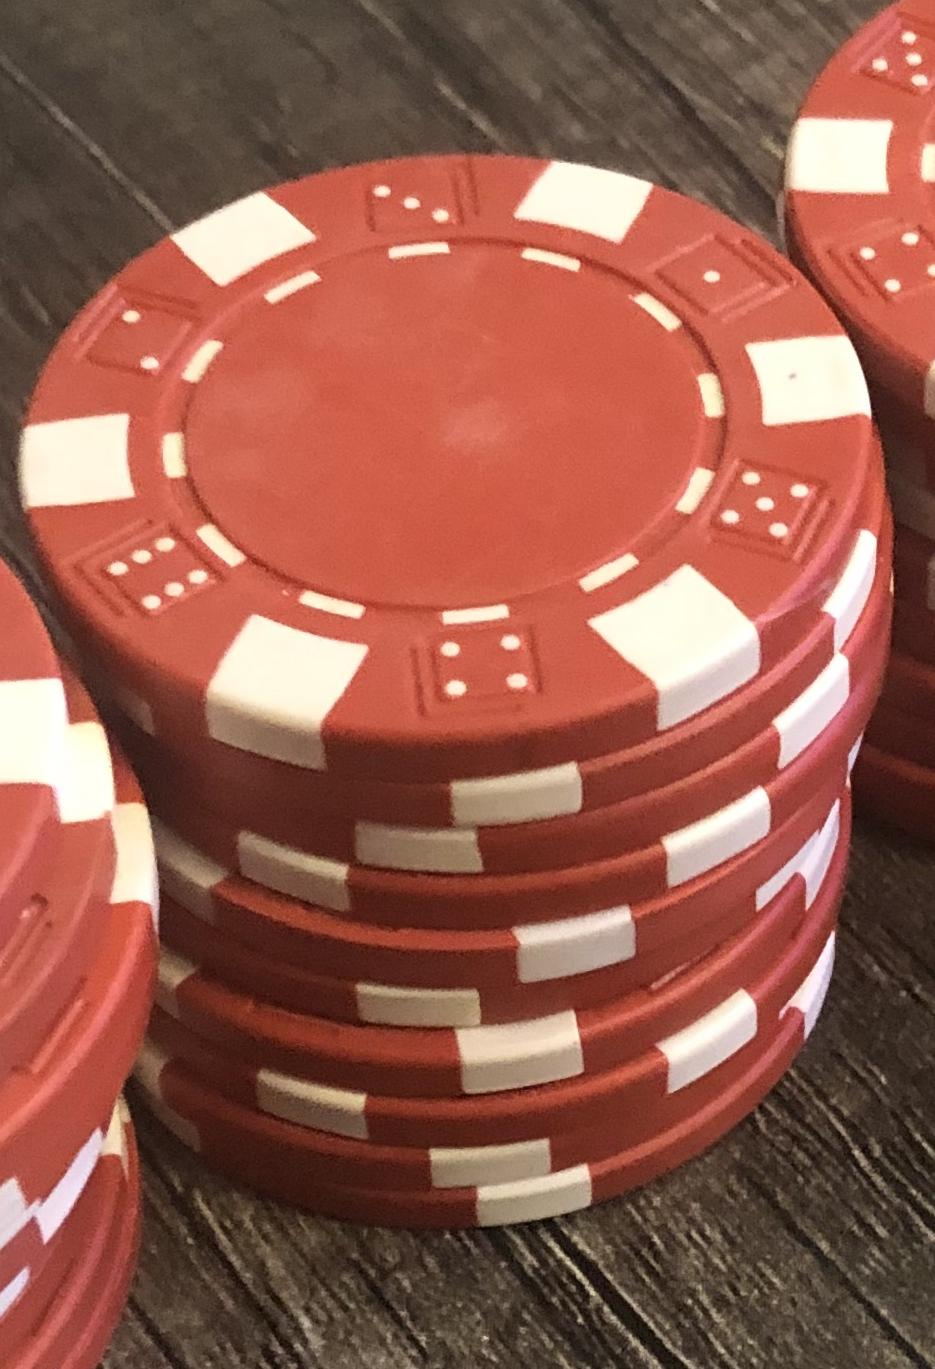Chip: (1, 1, 935, 1369)
